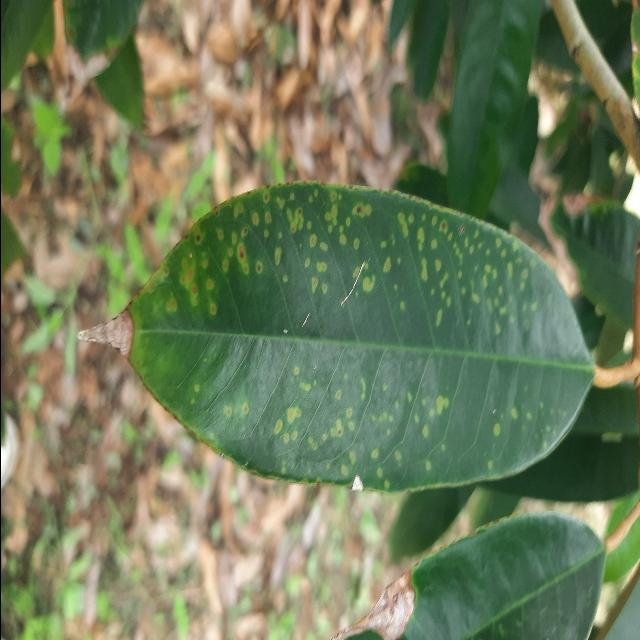Leaf Spot: (69, 175, 607, 501)
